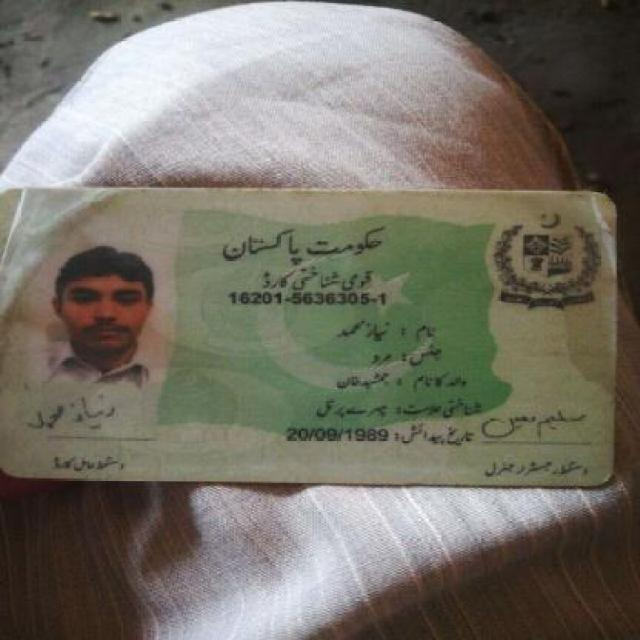Front: (8, 182, 622, 490)
